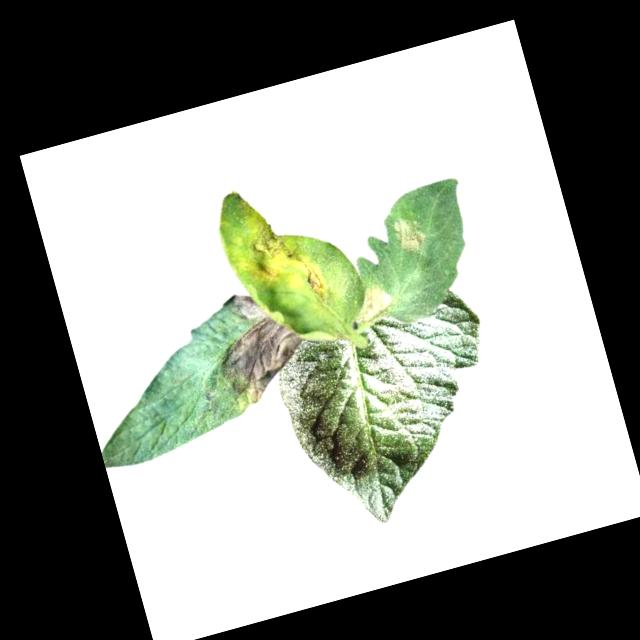Late_blight: (201, 280, 314, 413), (227, 214, 300, 287), (348, 281, 397, 326), (390, 212, 432, 258), (299, 259, 329, 309), (231, 192, 256, 223)
healthy: (264, 283, 526, 541)
